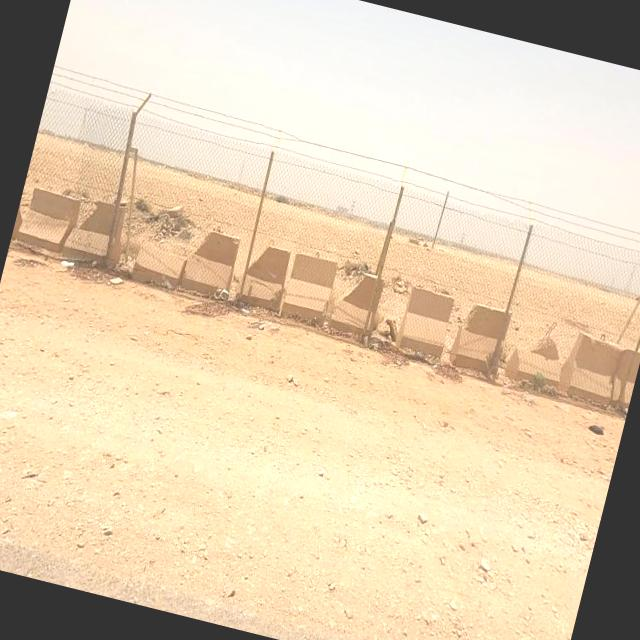debris: (191, 262, 279, 344), (92, 250, 145, 308), (240, 303, 293, 356), (38, 238, 96, 286)
